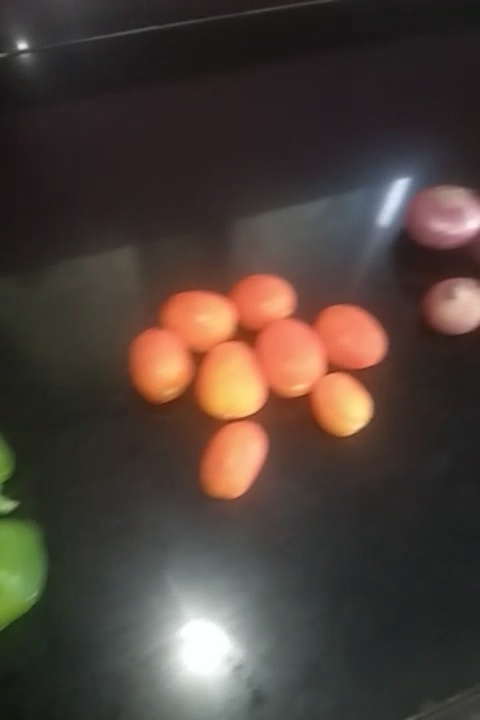capsicum: (1, 513, 59, 642)
onion: (400, 183, 472, 254), (406, 279, 480, 336)
tomato: (198, 338, 269, 424), (305, 298, 389, 365), (304, 377, 376, 442), (164, 291, 242, 350), (267, 320, 327, 396), (128, 326, 188, 400), (199, 429, 267, 494), (225, 270, 290, 323)
